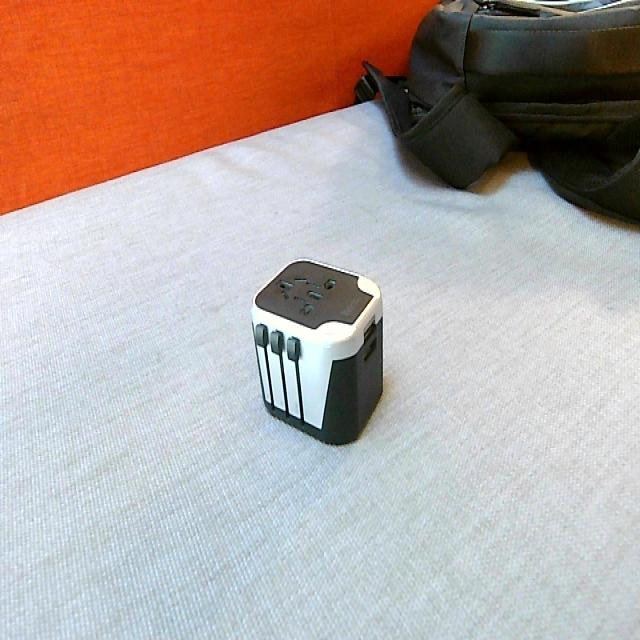adapter: (249, 258, 384, 446)
